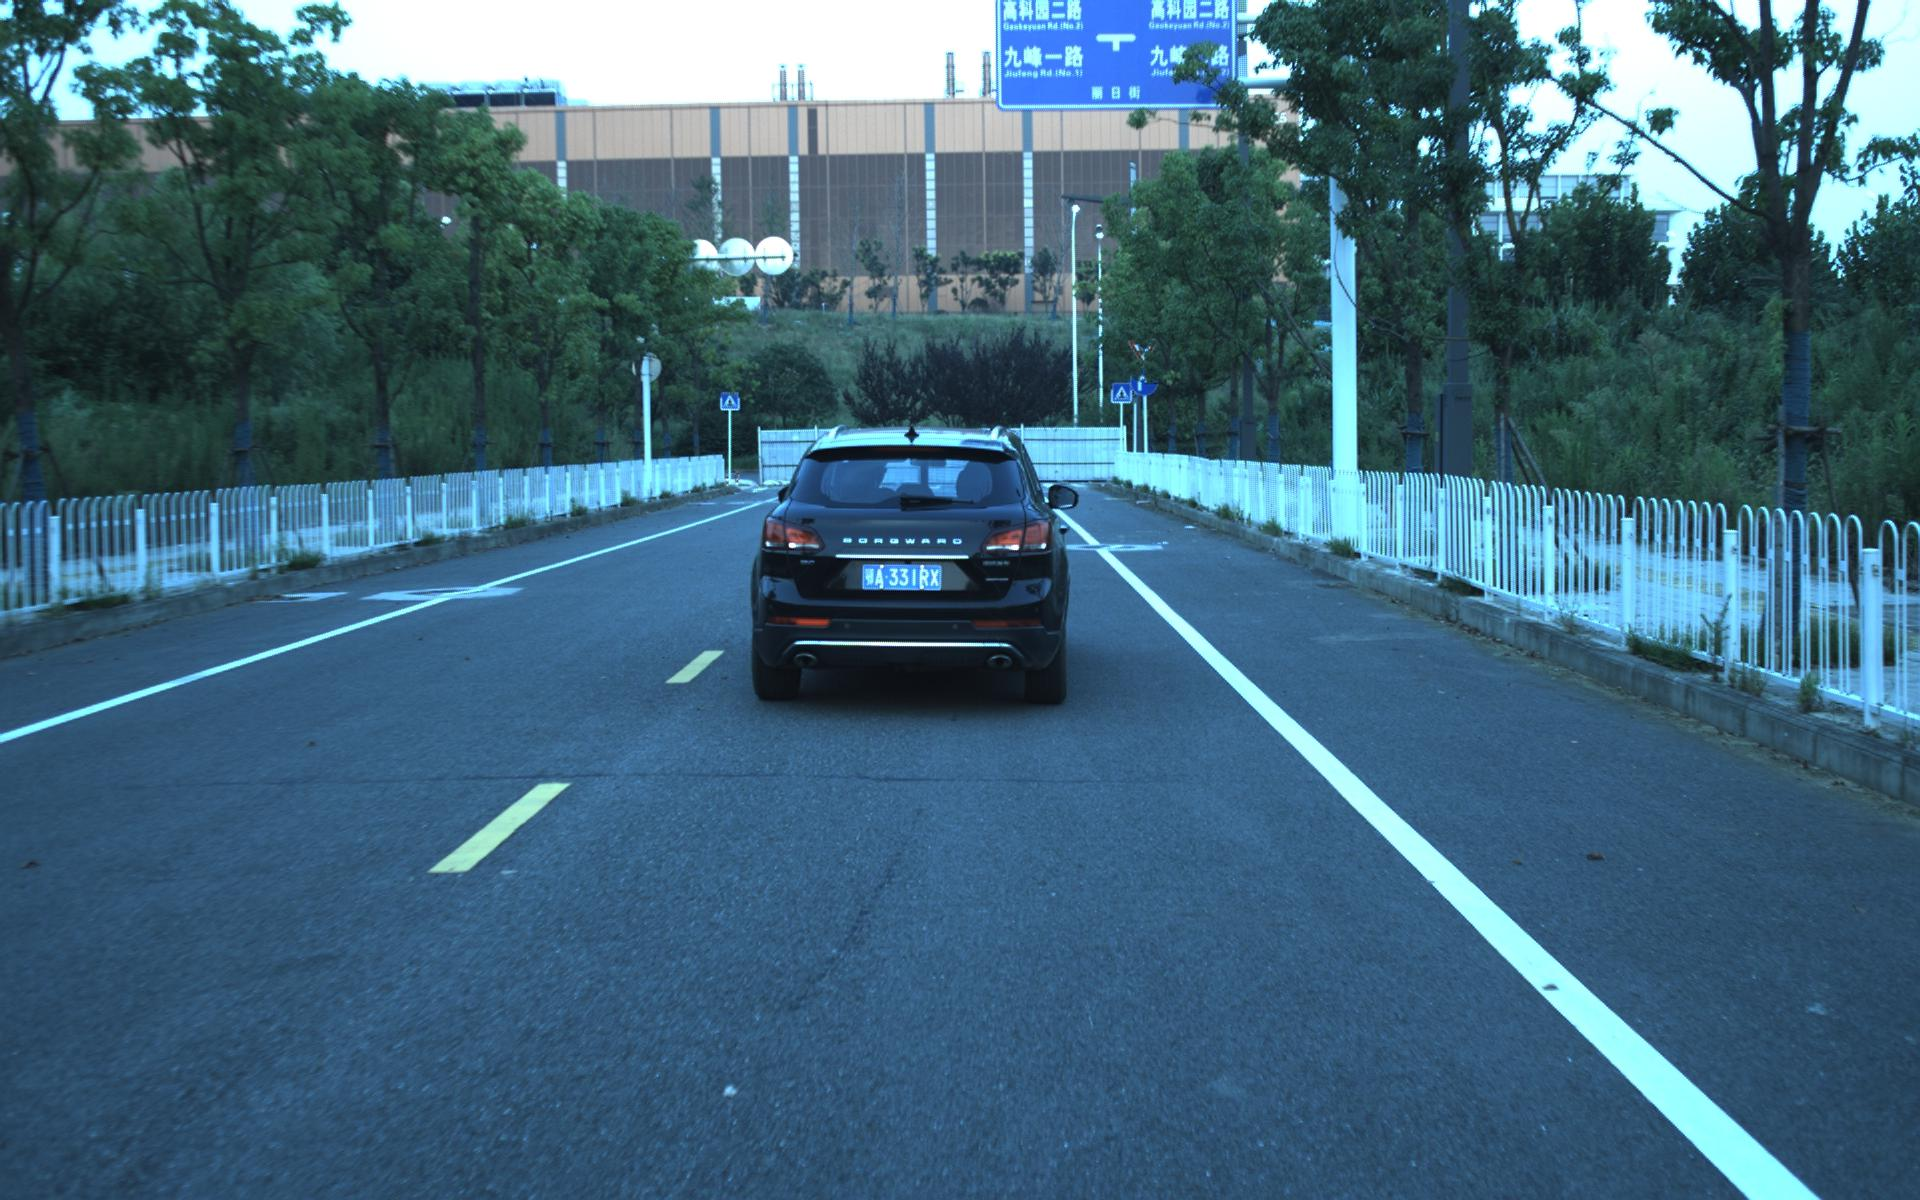Car: (745, 418, 1069, 711)
